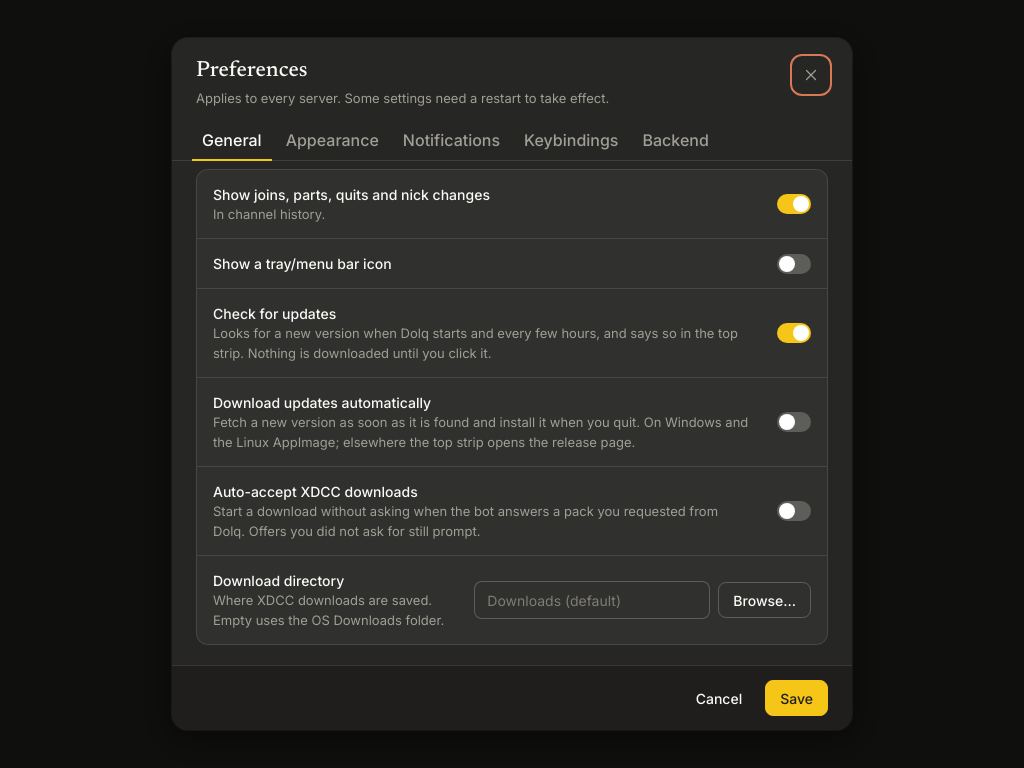
Test case: PreferencesModal: remote backend › is silent about protection once TLS and a token are set
Click the tab "Backend".
click(676, 141)  # box [632, 121, 719, 161]
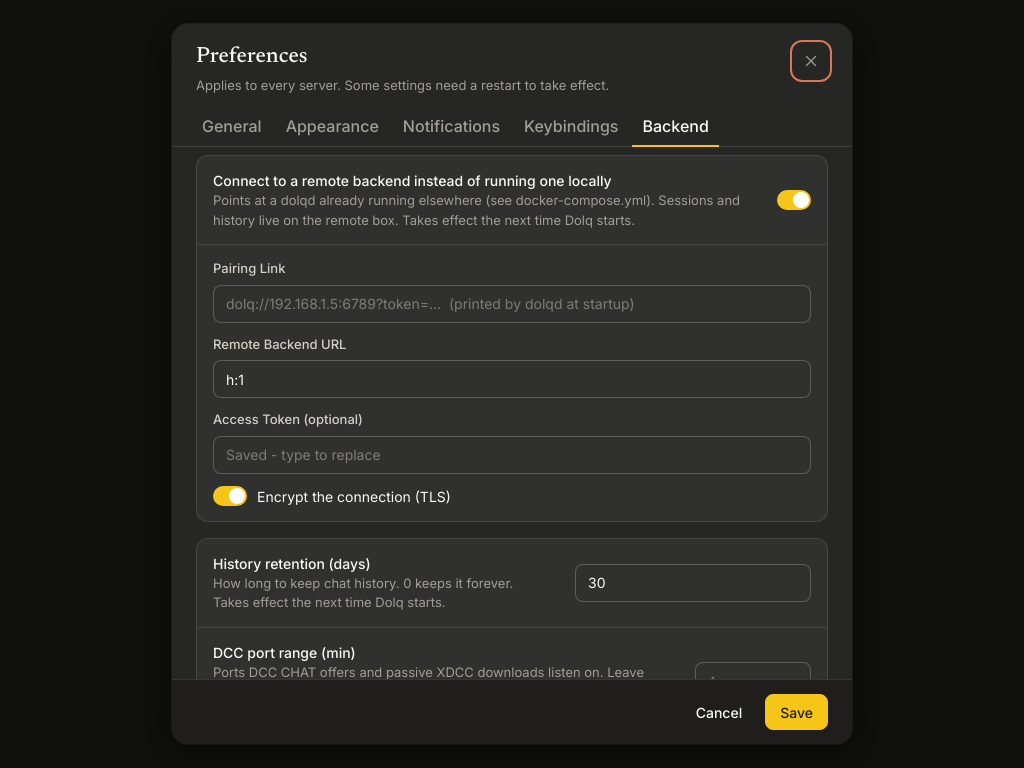
Expected: the password field with placeholder "Saved - type to replace" is empty, [213, 436, 811, 474]
Expected: the text "without" is gone
